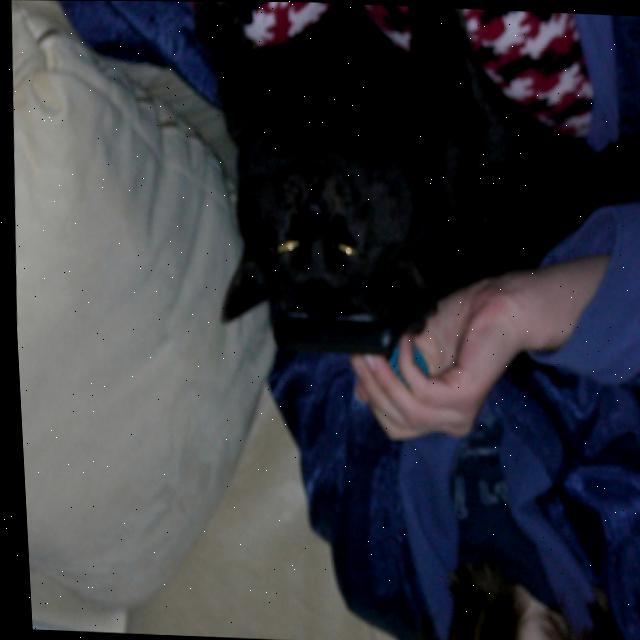Bombay: (178, 1, 634, 344)
